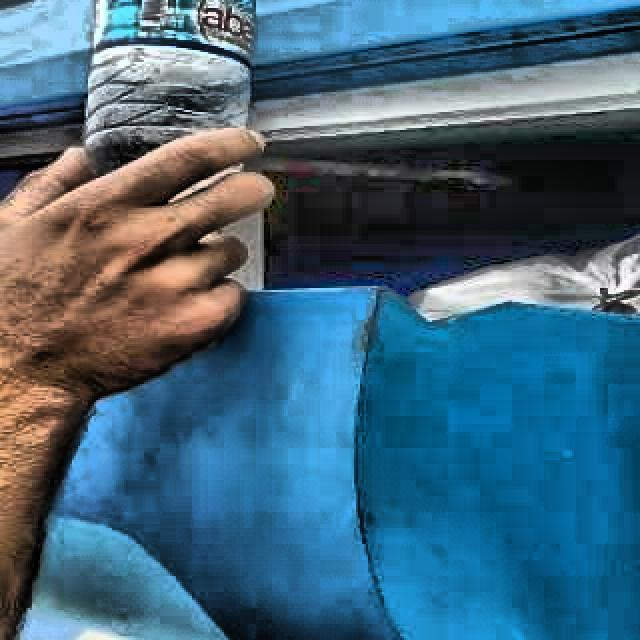plastic: (85, 29, 247, 168)
